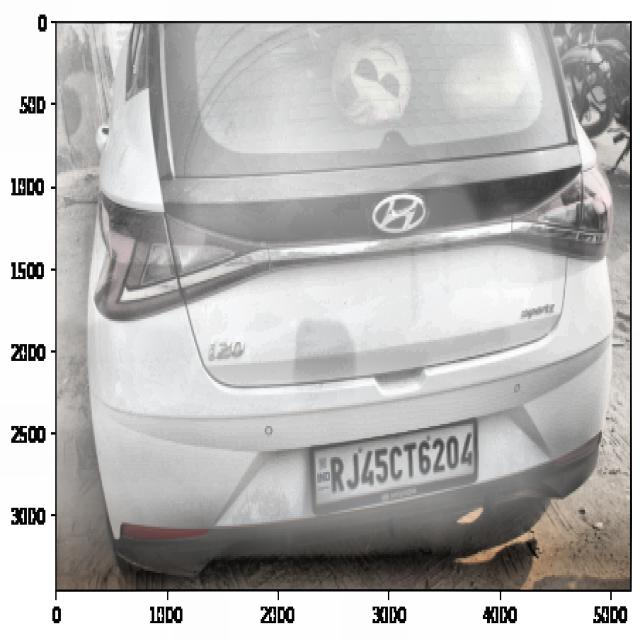license_plate: (325, 424, 477, 498)
